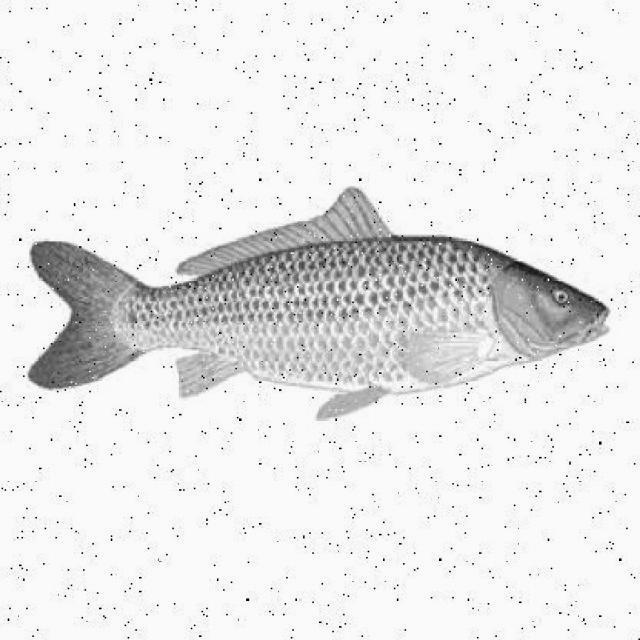ikan-mas: (23, 215, 611, 408)
